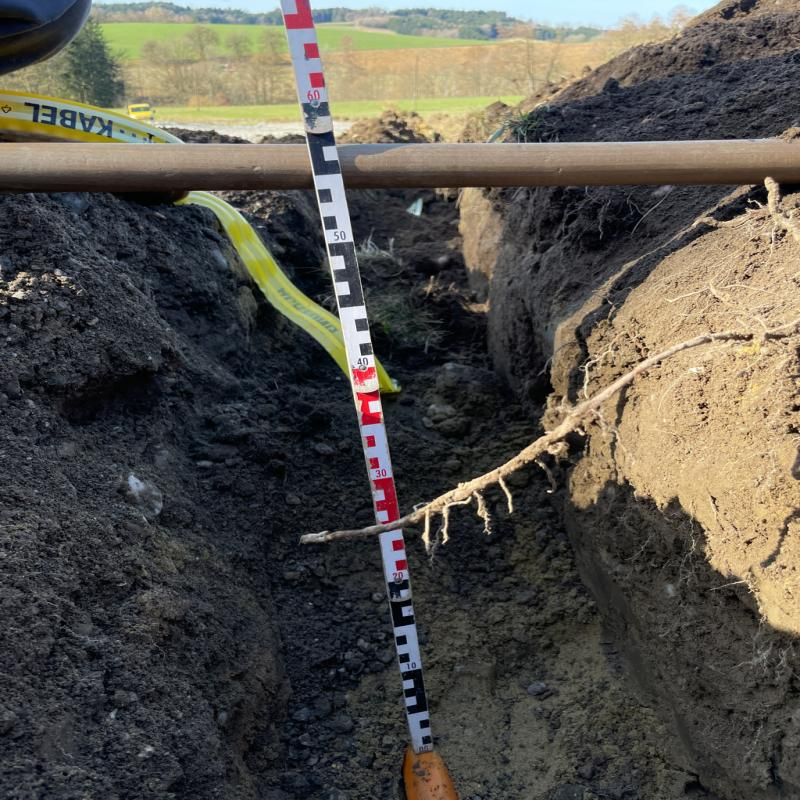Orang-Speednetrohrchen: (403, 747, 456, 800)
